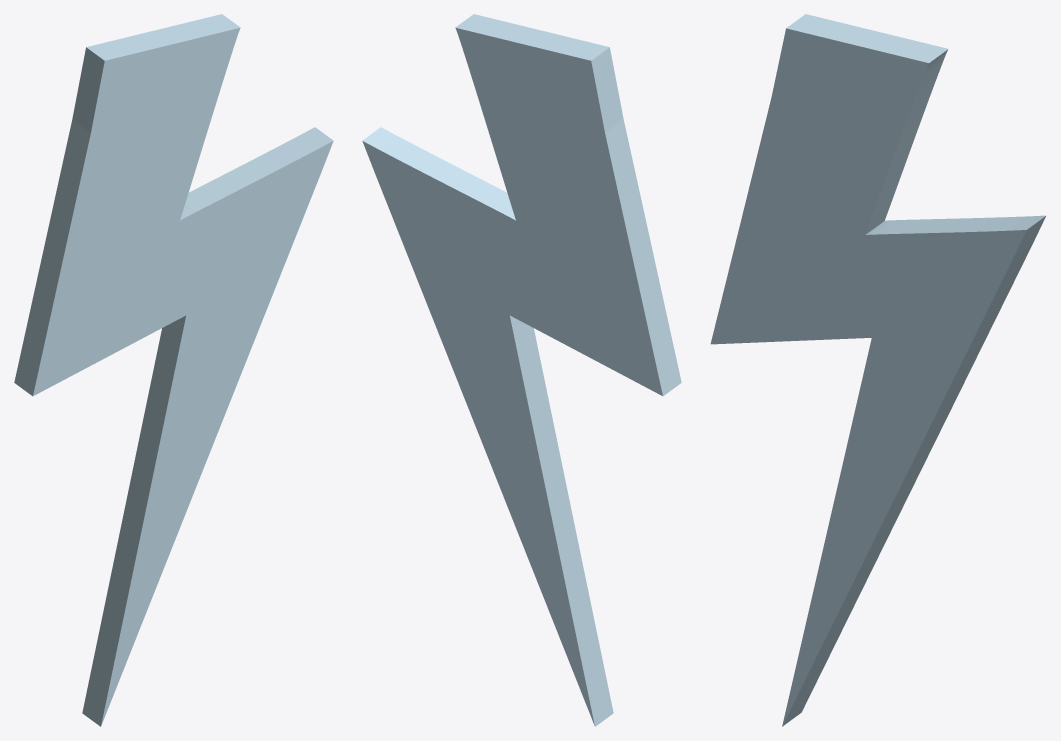
File: lightning.gltf
3 renders of one model, left to right at view 1: azimuth 30°, elevation 25°; view 2: azimuth 150°, elevation 25°; view 3: azimuth 330°, elevation 25°, orthographic. The views are drawn at different scales.
Visible parts, largest first — view 1: Part 1; view 2: Part 1; view 3: Part 1.
Part boxes in pixels (box(x1,y1,x2,y2)): Part 1: box(14, 14, 333, 726); Part 1: box(362, 14, 681, 726); Part 1: box(710, 14, 1045, 726).
Bounding box in the file's own units: 0.4733 × 1 × 0.0508.
